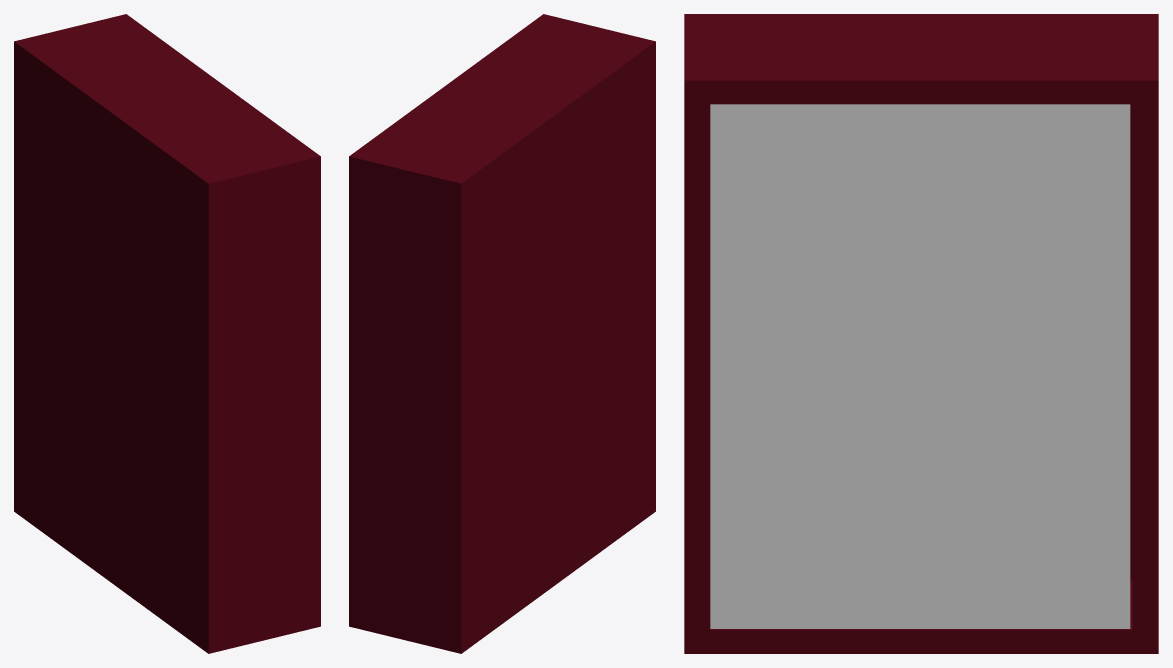
File: glass box.fbx
3 renders of one model, left to right at view 1: azimuth 30°, elevation 25°; view 2: azimuth 150°, elevation 25°; view 3: azimuth 270°, elevation 25°, orthographic. The views are drawn at different scales.
Visible parts, largest first — view 1: Cube; view 2: Cube; view 3: Cube.001, Cube.
Boxes of the visible parts, x1,y1,x2,y2 form: Cube: (14, 14, 320, 653); Cube: (349, 14, 655, 653); Cube.001: (710, 104, 1130, 628); Cube: (684, 14, 1158, 653).
Bounding box in the file's own units: 100 × 400 × 300.
